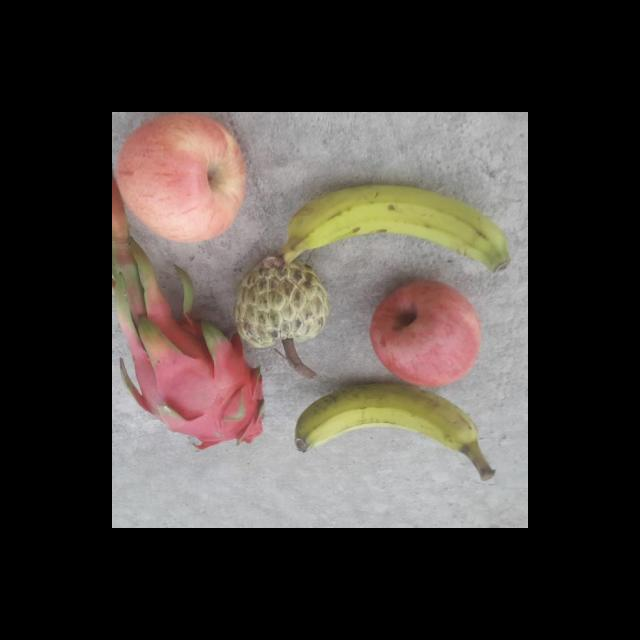Sakya fruit: (235, 251, 332, 355)
apple: (112, 113, 249, 245), (370, 274, 483, 388)
banana: (276, 185, 513, 276), (290, 382, 497, 480)
pitaya: (123, 315, 270, 449)
